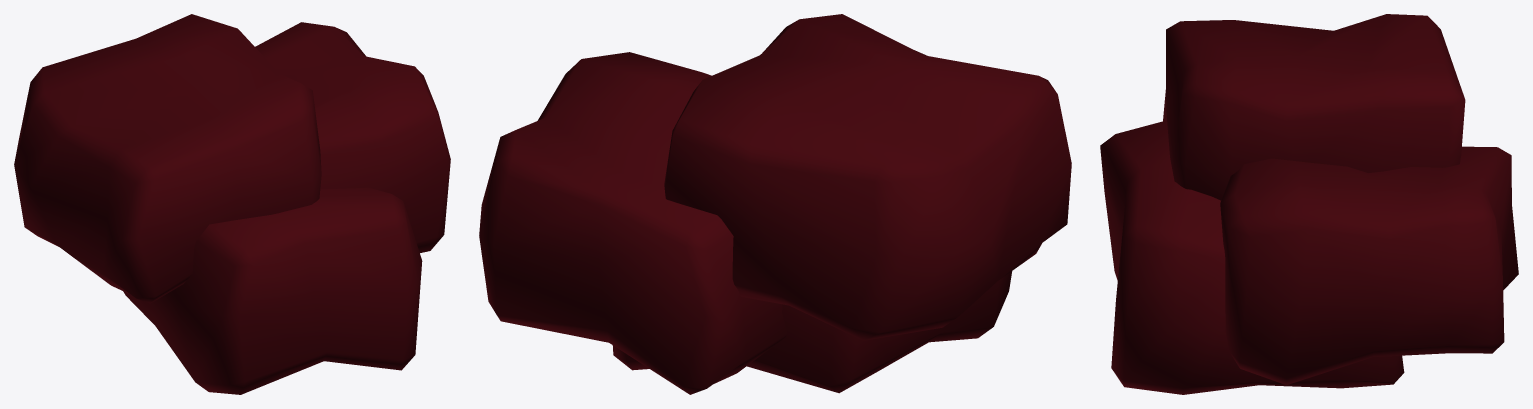
File: Viridian.fbx
3 views of the same model, side by side, from view 1: azimuth 30°, elevation 25°; view 2: azimuth 150°, elevation 25°; view 3: azimuth 270°, elevation 25° (orthographic). The views are drawn at different scales.
Visible parts, largest first — view 1: Viridian_LOD0; view 2: Viridian_LOD0; view 3: Viridian_LOD0.
Part boxes in pixels (x1,y1,x2,y2): Viridian_LOD0: (14, 14, 450, 394); Viridian_LOD0: (479, 14, 1071, 394); Viridian_LOD0: (1100, 14, 1518, 394).
Size of what is drawn, in the model's own units: 0.3215 by 0.2085 by 0.2883.
